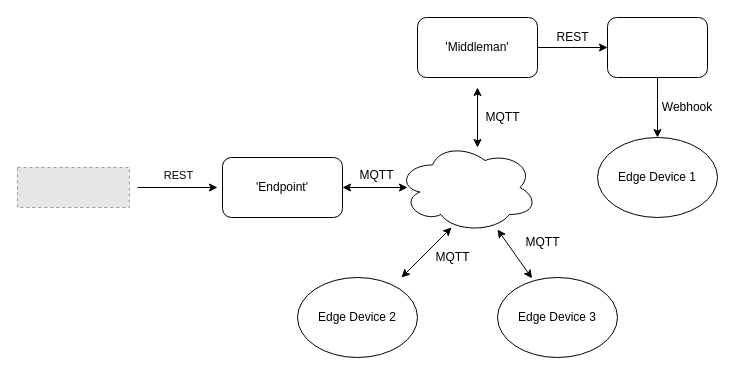
The diagram is 735 pixels wide and 375 high, and some of its shapes have lost their labels. Grey dashed boxes stand in for pictures. The shapes that lost their labels are listed below. From the top down, each one's centre as x and y in pixels, then its label:
At point (657, 47): "IfTTT".
At point (467, 187): "'Broker'".
